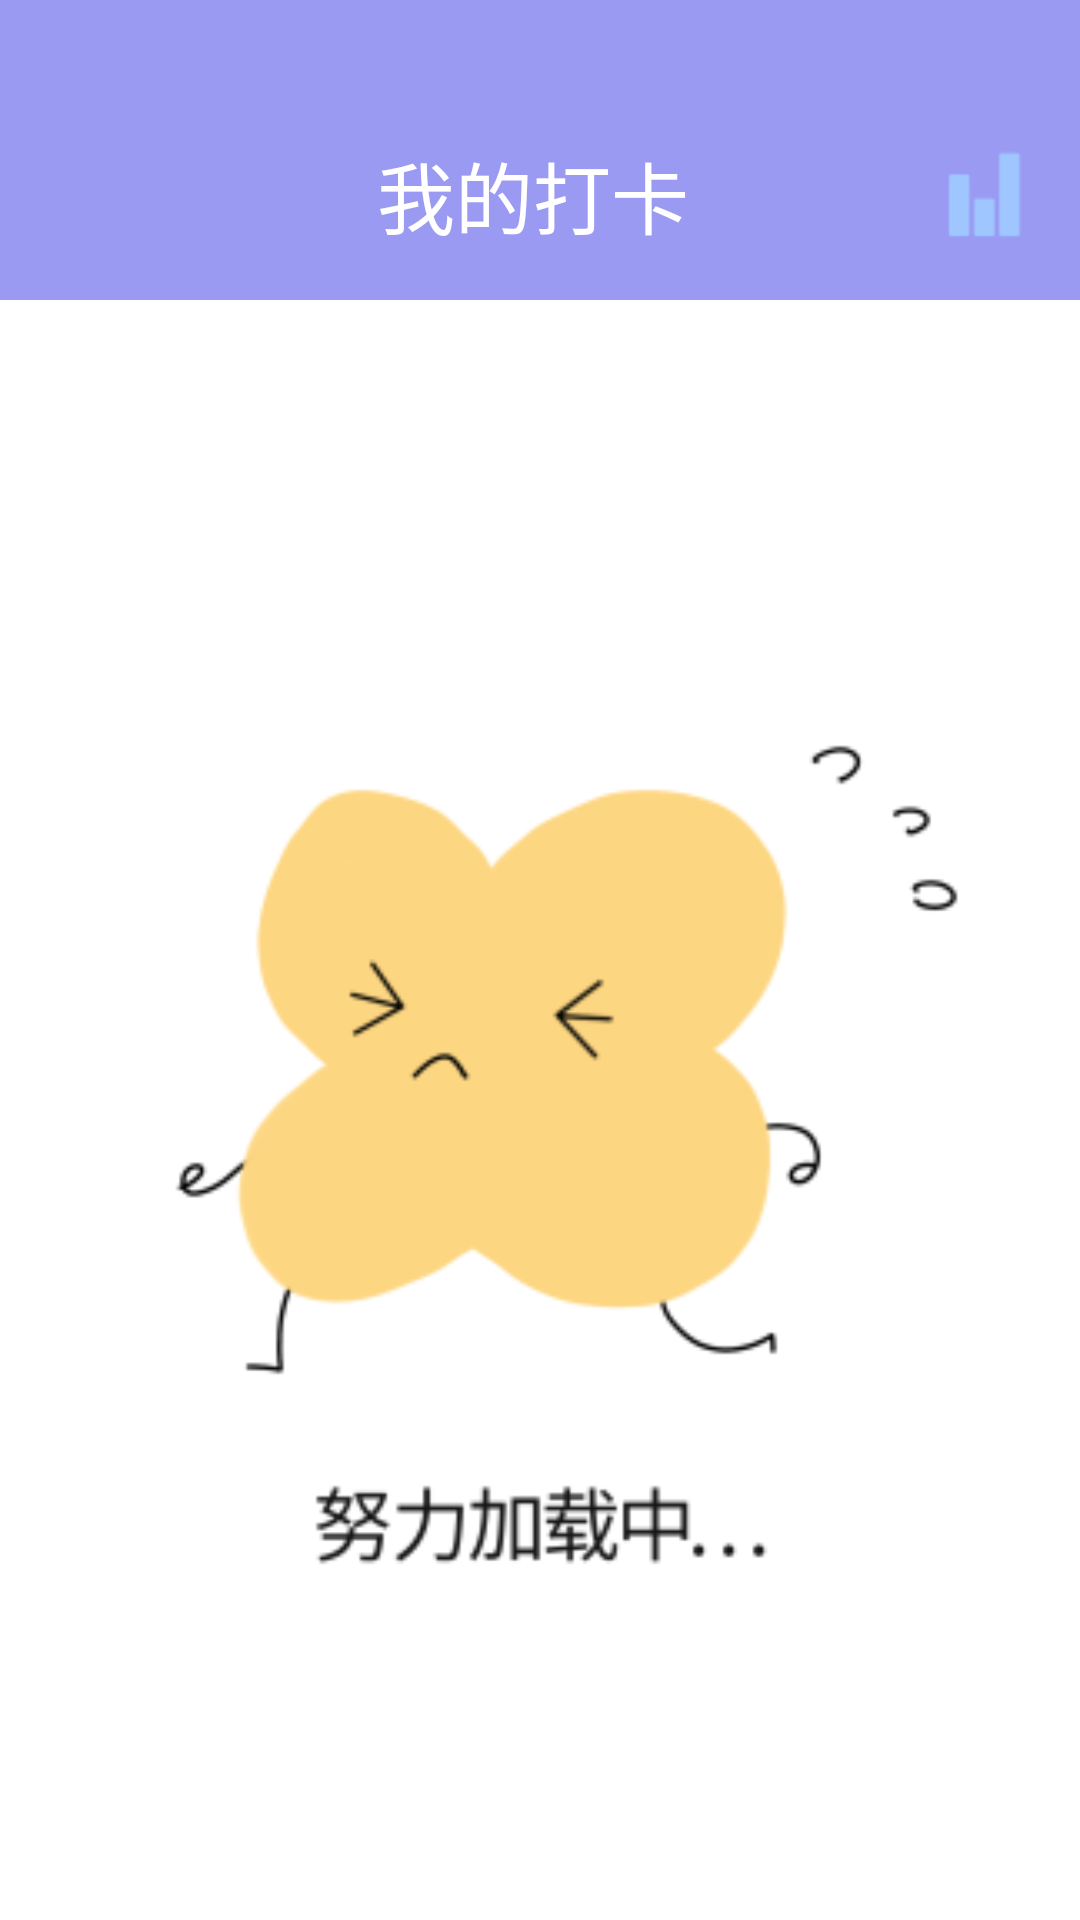

Screen size 1080w x 1920h. Icon name, then its center in pixels as [x,y]:
rank: [984,195]
